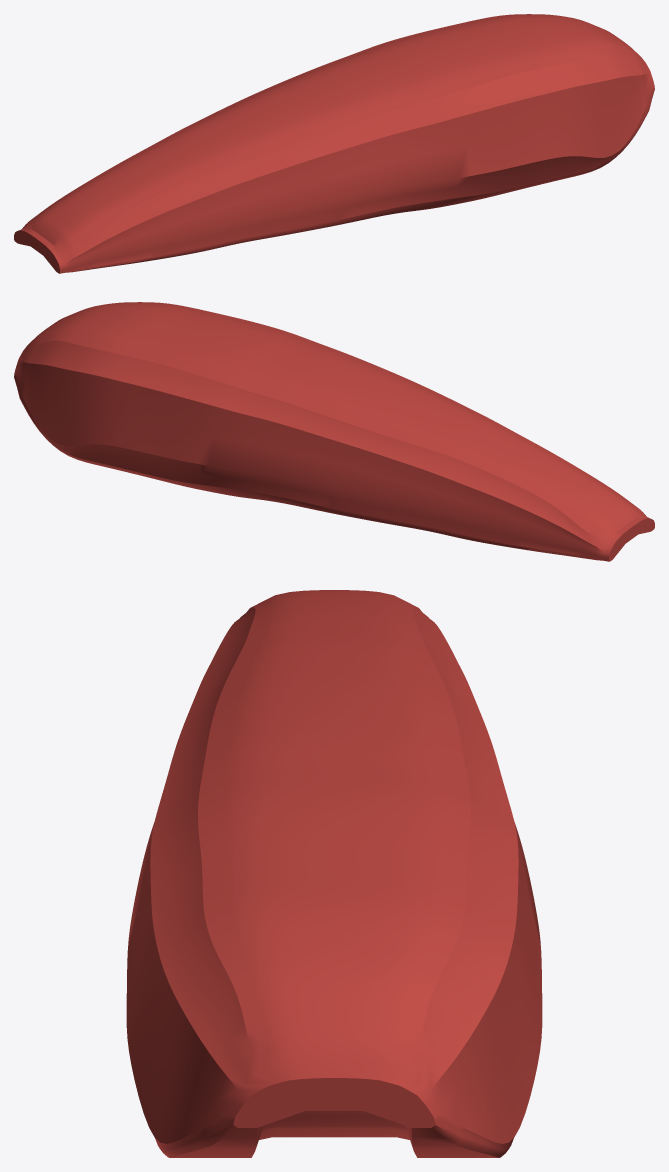
Rendered from bobber_1_lod1.glb.
3 views of the same model, one above another, from view 1: azimuth 30°, elevation 25°; view 2: azimuth 150°, elevation 25°; view 3: azimuth 270°, elevation 25° (orthographic). The views are drawn at different scales.
Visible parts, largest first — view 1: bobber_1_lod1; view 2: bobber_1_lod1; view 3: bobber_1_lod1.
Part boxes in pixels (x1,y1,x2,y2): bobber_1_lod1: (14,14,654,273); bobber_1_lod1: (14,302,654,561); bobber_1_lod1: (126,590,542,1157).
Size of the model in its own units: 1.06 by 0.2002 by 0.3234.
